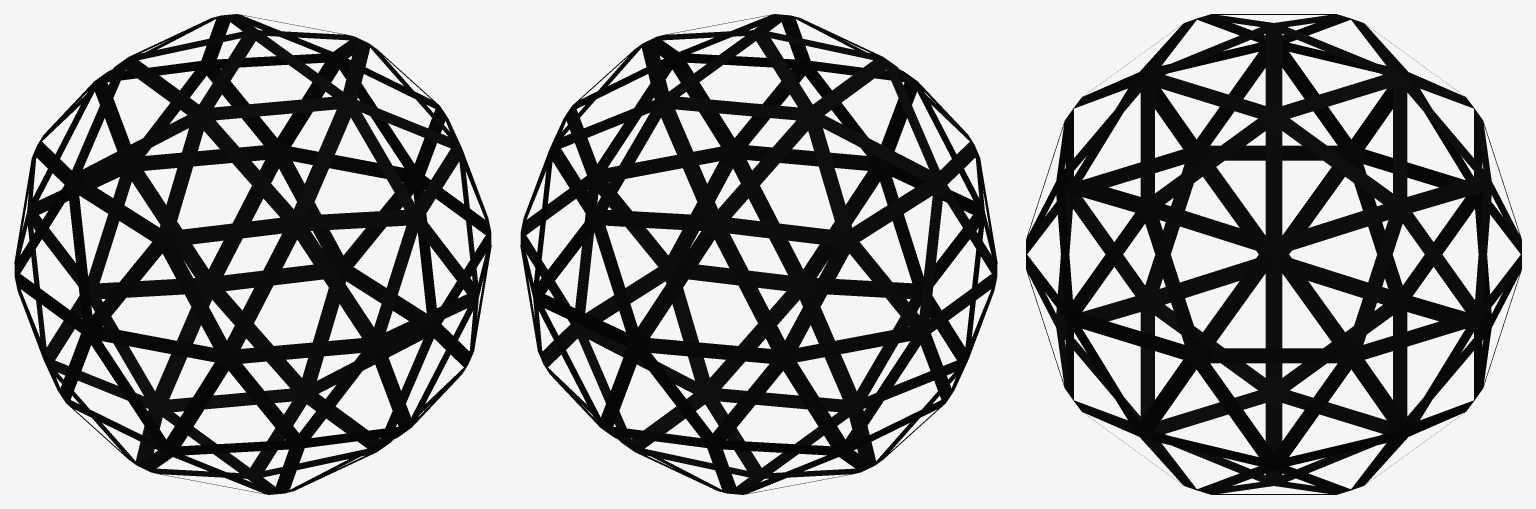
The model's file is player.obj.
3 renders of one model, left to right at view 1: azimuth 30°, elevation 25°; view 2: azimuth 150°, elevation 25°; view 3: azimuth 270°, elevation 25°, orthographic. The views are drawn at different scales.
Visible parts, largest first — view 1: ICO球; view 2: ICO球; view 3: ICO球.
Part boxes in pixels (<box>): ICO球: <box>14,14,491,494</box>; ICO球: <box>520,14,997,494</box>; ICO球: <box>1026,14,1521,494</box>.
Bounding box in the file's own units: 1.89 × 1.96 × 1.95.
1 material, 1 textured.
